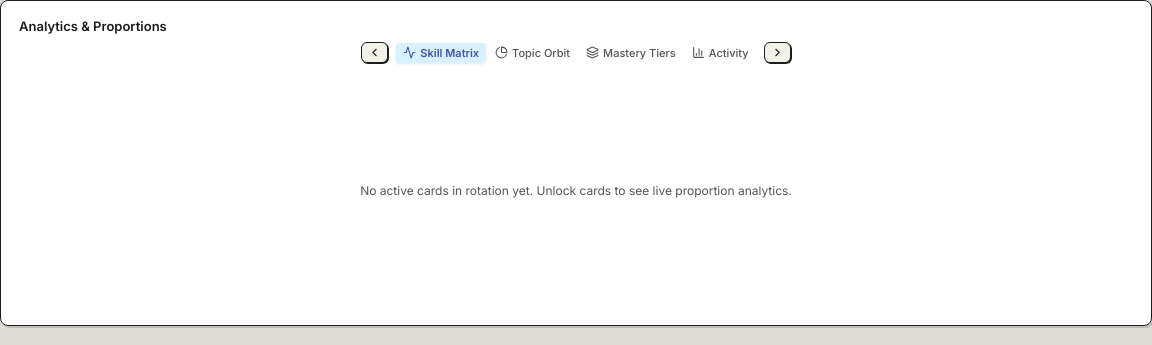
Test case: Activity as the fourth mode of the stats widget › works with no active cards at all: the history is still shown
Click the button "Activity".
click(720, 52)  # box [685, 42, 756, 62]
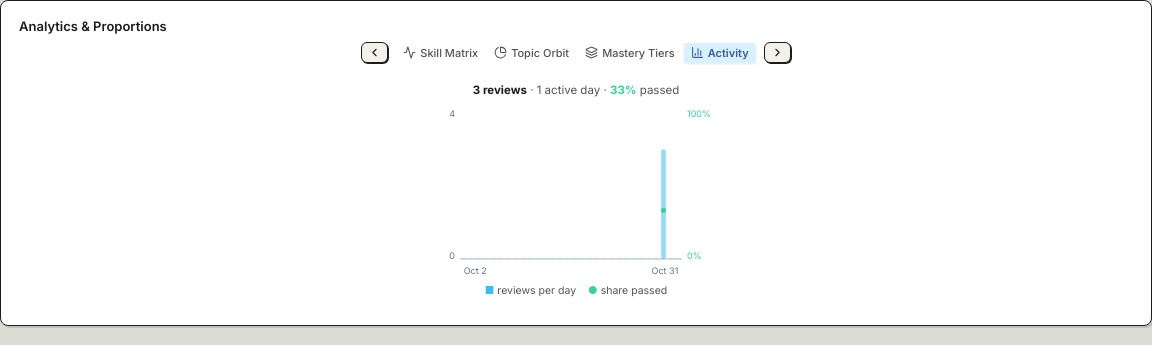
Check: the element showing "3 reviews · 1 active day · 33% passed" is shown, box [473, 82, 679, 99]
Check: the text "No active cards in rotation" is gone
